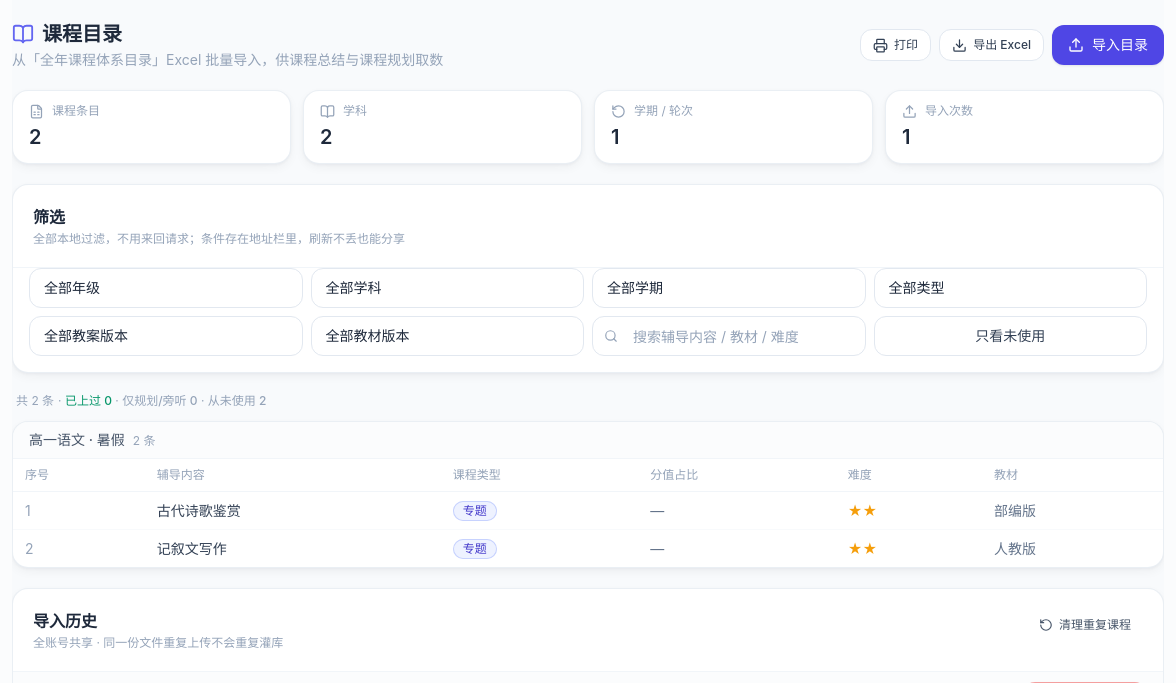
Test: 课程目录页 › 教材版本可以搜，也可以按教材版本筛选
Check: the text "记叙文写作" is shown, box [157,540,227,556]
教材版本进了搜索范围：搜「部编」只留 1 条（之前搜不到）
Type "部编" into the field with placeholder "搜索辅导内容 / 教材 / 难度".
click(729, 336); type("部编")  # box [592,316,866,356]
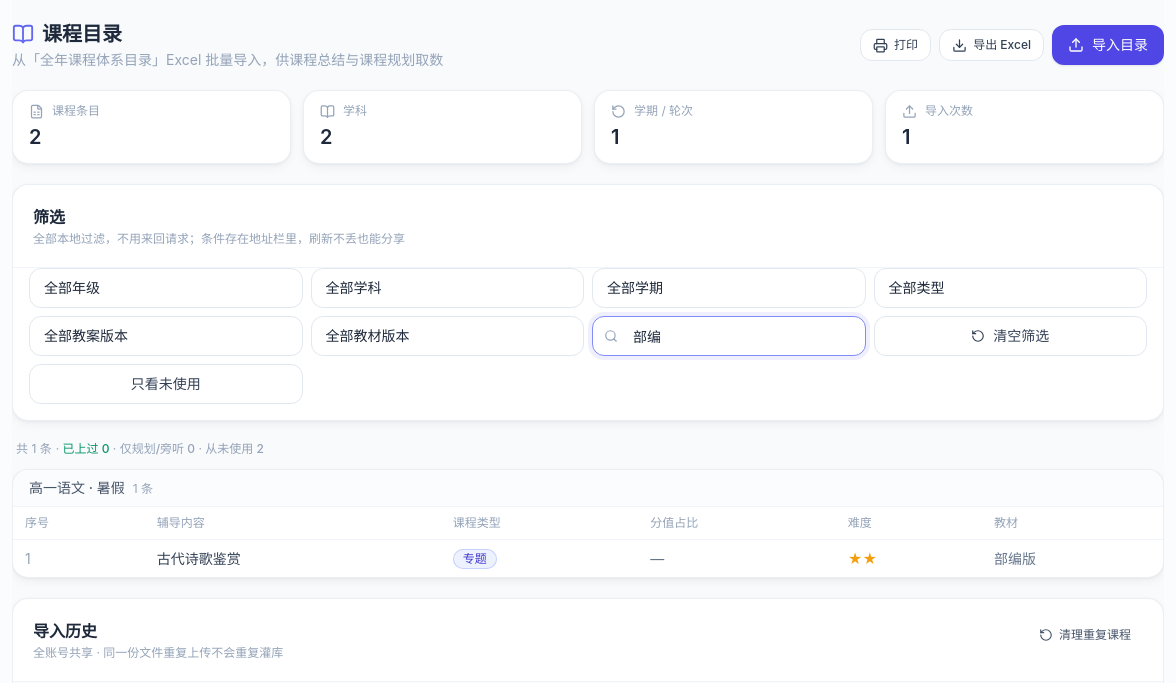
Check: the text "古代诗歌鉴赏" is shown, box [157,550,241,566]
Check: the text "记叙文写作" is gone
Clear the field with placeholder "搜索辅导内容 / 教材 / 难度" at (729, 336), box [592,316,866,356]
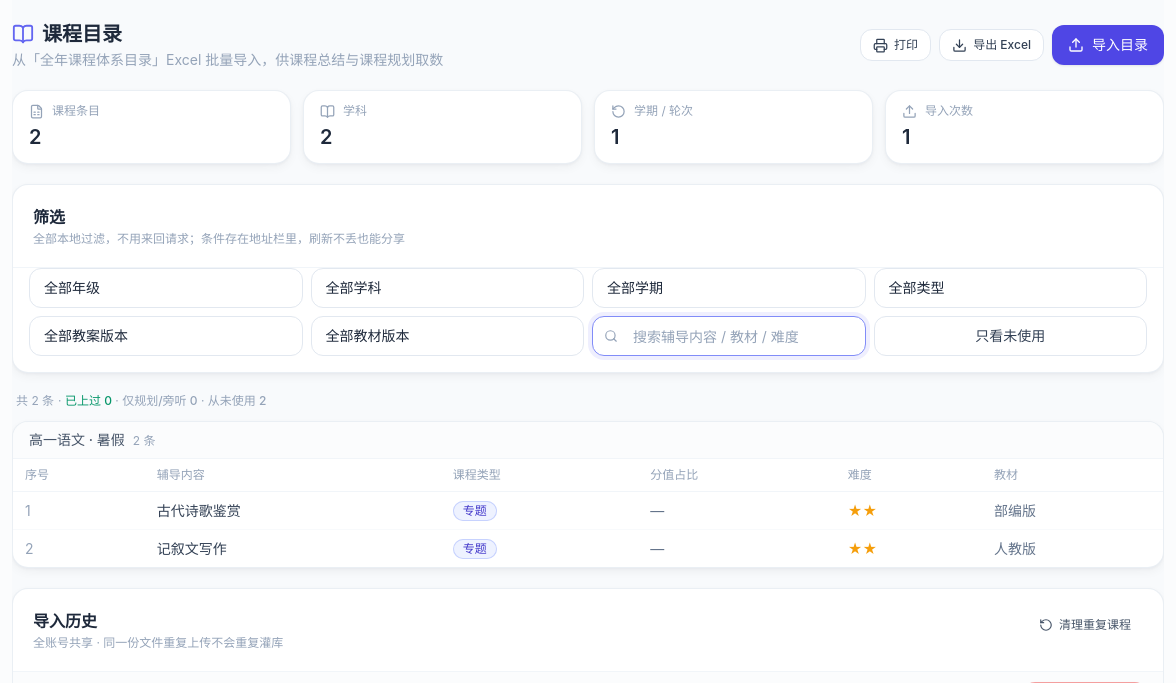
按教材版本下拉筛选
Select "人教版" in the dropdown named "按教材版本筛选" at (447, 336), box [310,316,584,356]
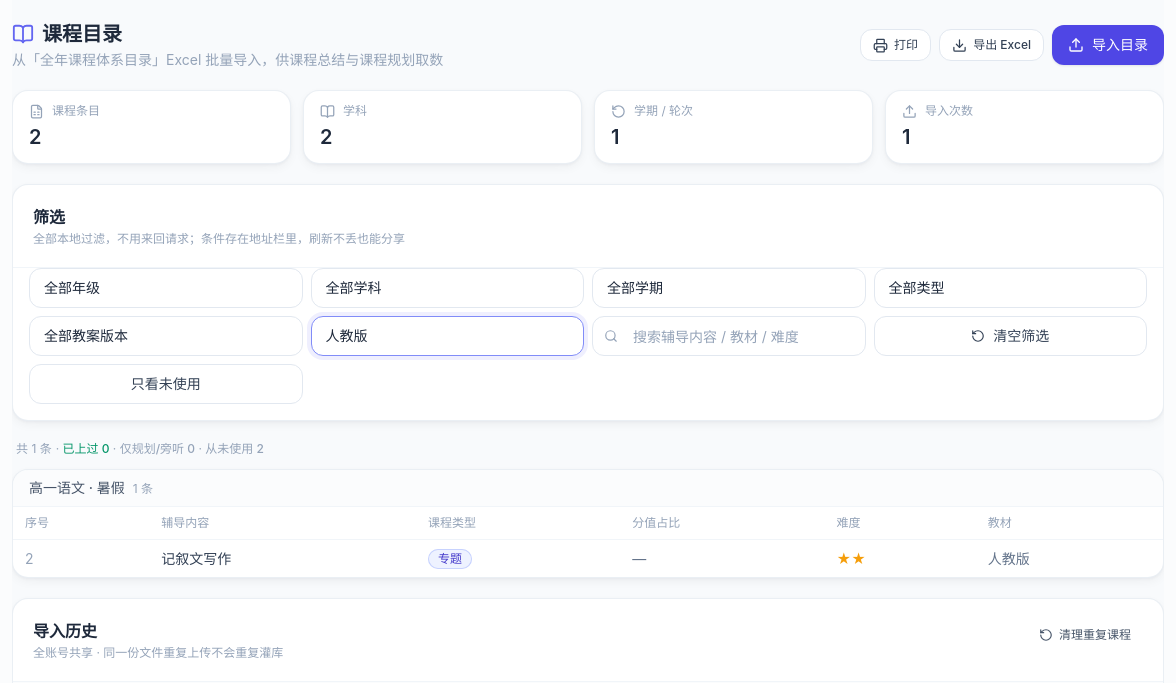
Check: the text "记叙文写作" is shown, box [161,550,231,566]
Check: the text "古代诗歌鉴赏" is gone
